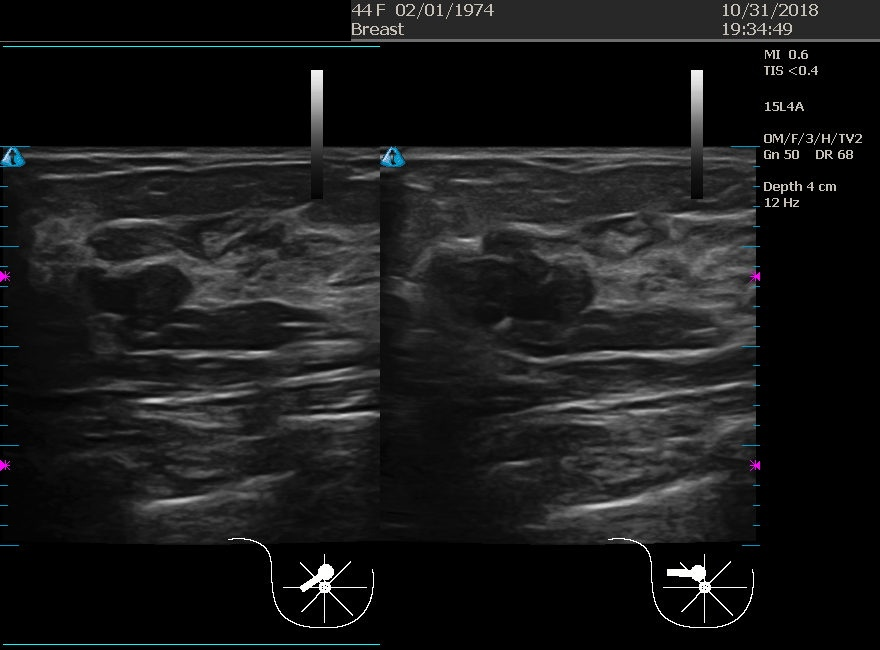BIRADS_4: (51, 199, 251, 399), (406, 168, 606, 368)
